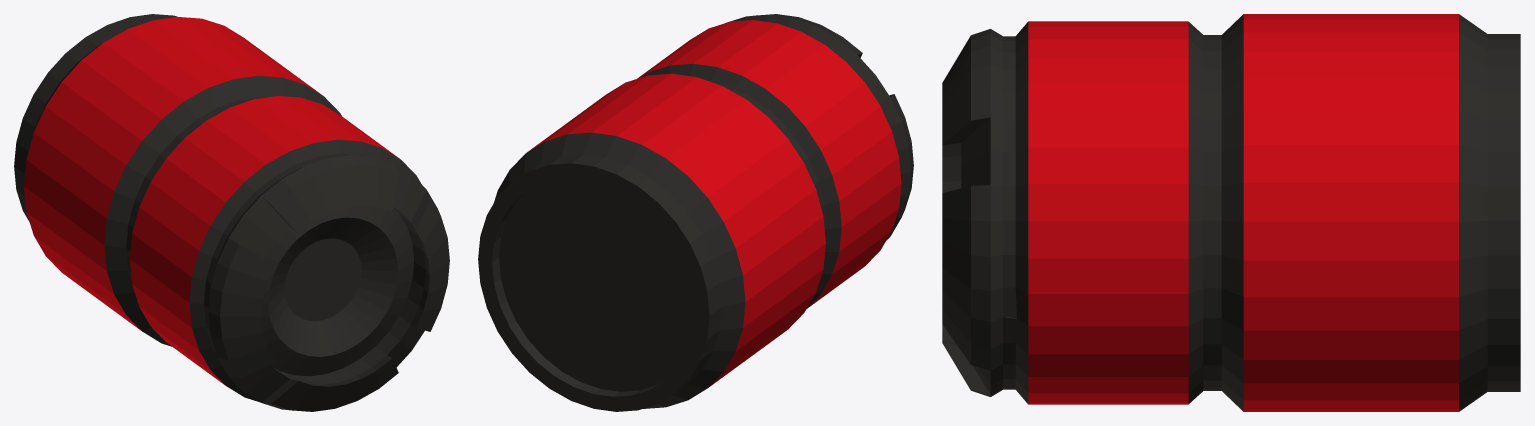
File: barrel 1.fbx
3 views of the same model, side by side, from view 1: azimuth 30°, elevation 25°; view 2: azimuth 150°, elevation 25°; view 3: azimuth 270°, elevation 25° (orthographic). The views are drawn at different scales.
Parts seen in each view (by area): view 1: Cylinder, Cylinder_cell.007, Cylinder_cell, Cylinder_cell.003, Cylinder_cell.006, Cylinder_cell.009, Cylinder_cell.001, Cylinder_cell.004; view 2: Cylinder, Cylinder_cell.002, Cylinder_cell.006, Cylinder_cell.001, Cylinder_cell.008, Cylinder_cell.007, Cylinder_cell, Cylinder_cell.004; view 3: Cylinder, Cylinder_cell, Cylinder_cell.002, Cylinder_cell.005, Cylinder_cell.003, Cylinder_cell.007, Cylinder_cell.006.
Part boxes in pixels (left/top/right/bottom): Cylinder: left=14, top=14, right=449, bottom=411; Cylinder_cell.007: left=160, top=112, right=338, bottom=350; Cylinder_cell: left=246, top=75, right=449, bottom=281; Cylinder_cell.003: left=290, top=248, right=447, bottom=406; Cylinder_cell.006: left=54, top=77, right=256, bottom=345; Cylinder_cell.009: left=192, top=304, right=333, bottom=411; Cylinder_cell.001: left=14, top=155, right=63, bottom=242; Cylinder_cell.004: left=36, top=239, right=121, bottom=316; Cylinder: left=478, top=29, right=913, bottom=411; Cylinder_cell.002: left=478, top=156, right=599, bottom=382; Cylinder_cell.006: left=688, top=67, right=869, bottom=331; Cylinder_cell.001: left=586, top=206, right=778, bottom=379; Cylinder_cell.008: left=540, top=133, right=745, bottom=282; Cylinder_cell.007: left=744, top=22, right=913, bottom=211; Cylinder_cell: left=602, top=14, right=813, bottom=97; Cylinder_cell.004: left=558, top=306, right=782, bottom=411; Cylinder: left=942, top=14, right=1520, bottom=409; Cylinder_cell: left=942, top=30, right=1264, bottom=333; Cylinder_cell.002: left=1244, top=134, right=1520, bottom=410; Cylinder_cell.005: left=1109, top=273, right=1443, bottom=411; Cylinder_cell.003: left=942, top=275, right=1135, bottom=394; Cylinder_cell.007: left=942, top=21, right=1162, bottom=189; Cylinder_cell.006: left=1160, top=14, right=1309, bottom=62.
Size of the model in its own units: 0.7513 by 0.7513 by 1.09.
